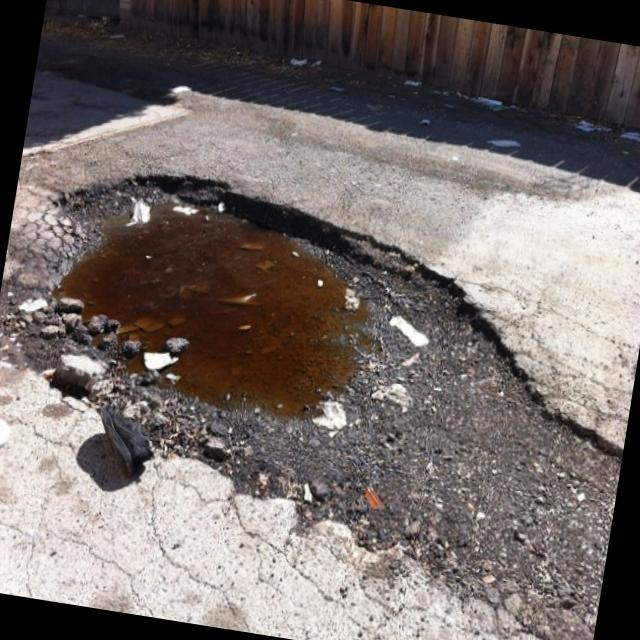Potholes: (0, 136, 454, 540)
